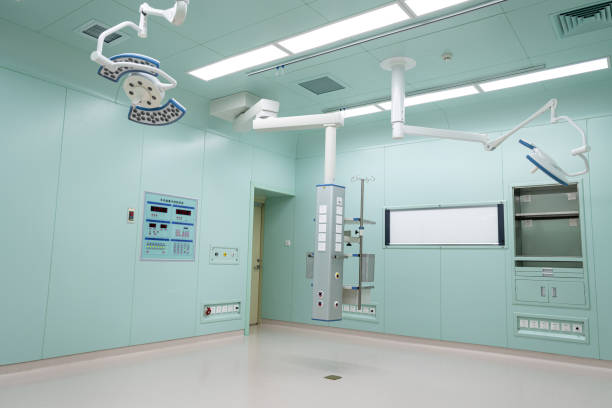cabinet: (510, 188, 591, 306)
door_handle: (254, 255, 264, 272)
handle: (549, 284, 559, 302), (537, 286, 545, 299)
iv_pole: (351, 173, 368, 311)
surgical_light: (98, 52, 187, 129), (517, 136, 590, 184)
